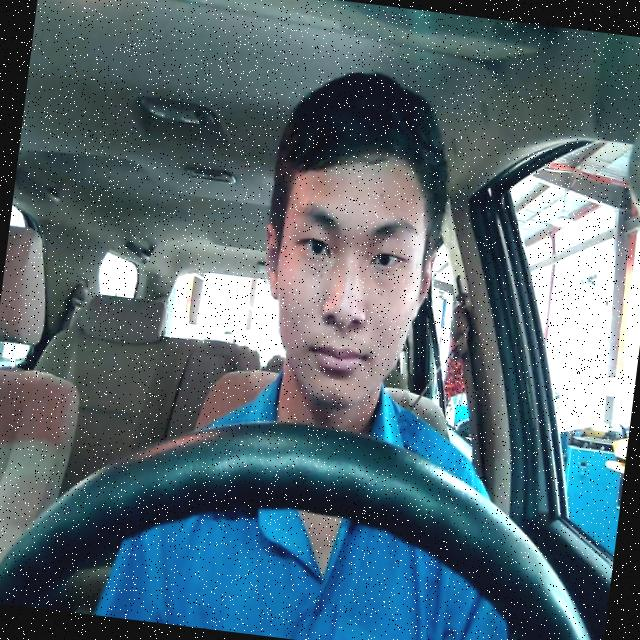focused: (244, 139, 447, 417)
